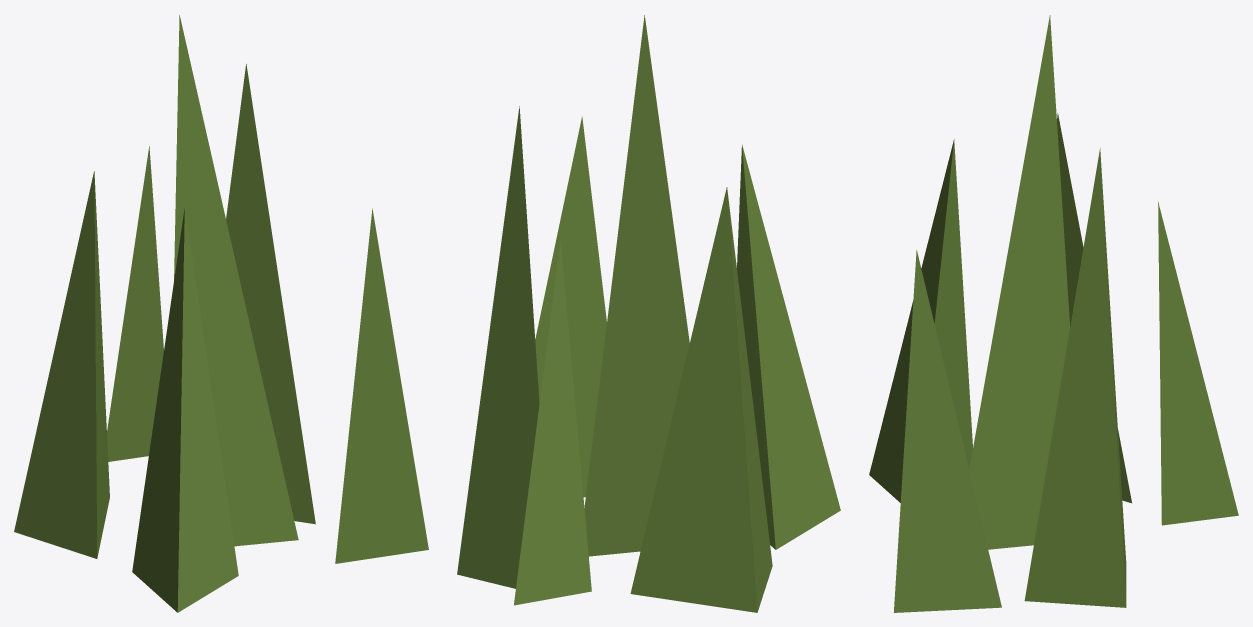
File: grass_3.fbx
3 views of the same model, side by side, from view 1: azimuth 30°, elevation 25°; view 2: azimuth 150°, elevation 25°; view 3: azimuth 270°, elevation 25° (orthographic). The views are drawn at different scales.
Parts seen in each view (by area): view 1: Grass_03; view 2: Grass_03; view 3: Grass_03.
Part boxes in pixels (x1,y1,x2,y2): Grass_03: (14,15,428,612); Grass_03: (457,15,840,612); Grass_03: (869,15,1238,612).
Size of the model in its own units: 124 by 205 by 130.
Materials: 1 (1 with a texture image).
